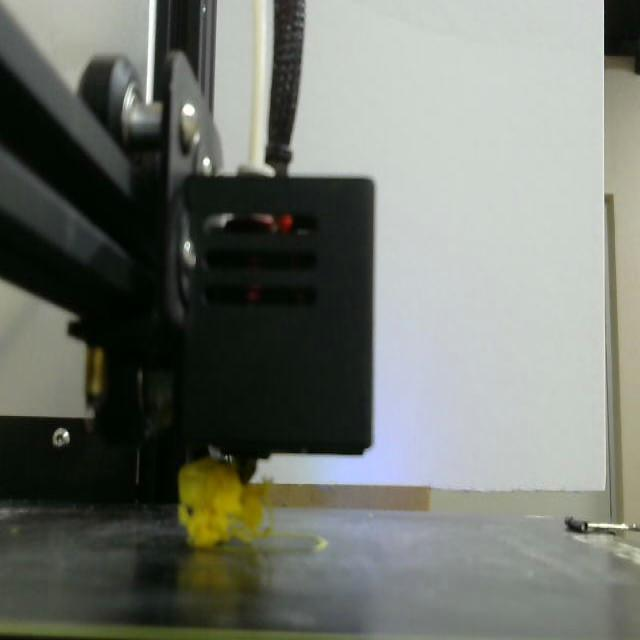spaghetti: (179, 458, 269, 546)
